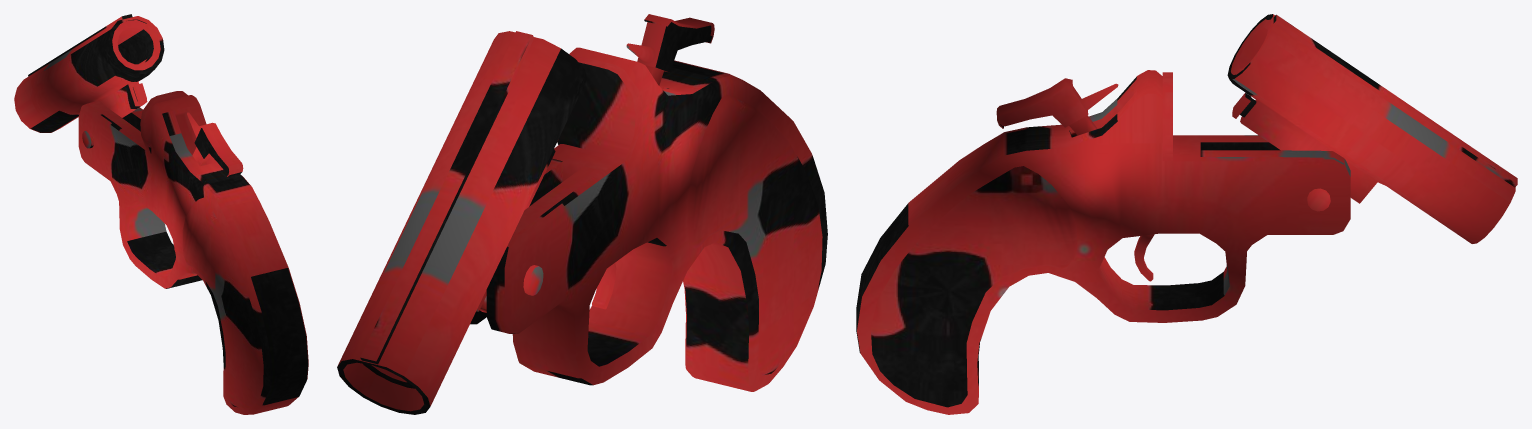
File: flare-gun.glb
3 views of the same model, side by side, from view 1: azimuth 30°, elevation 25°; view 2: azimuth 150°, elevation 25°; view 3: azimuth 270°, elevation 25° (orthographic). The views are drawn at different scales.
Visible parts, largest first — view 1: Body, Barrel, Hammer; view 2: Body, Barrel, Hammer, Trigger; view 3: Body, Barrel, Hammer.
Boxes of the visible parts, x1,y1,x2,y2 form: Body: (78,91,308,414); Barrel: (14,14,164,148); Hammer: (187,112,243,176); Body: (470,47,827,391); Barrel: (337,31,587,414); Hammer: (626,14,714,85); Trigger: (592,263,616,309); Body: (856,70,1350,414); Barrel: (1227,14,1517,243); Hammer: (996,78,1118,135).
Bounding box in the file's own units: 0.0327 × 0.1768 × 0.2743.
1 material, 1 textured.
